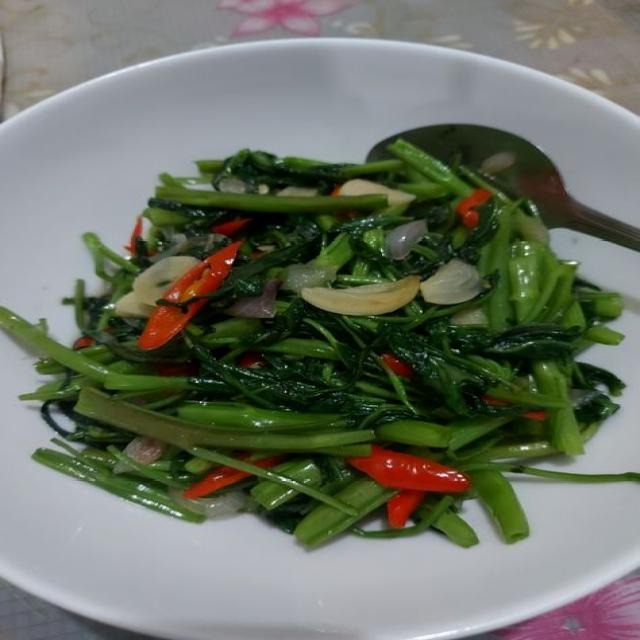tumis kangkung: (0, 138, 622, 553)
